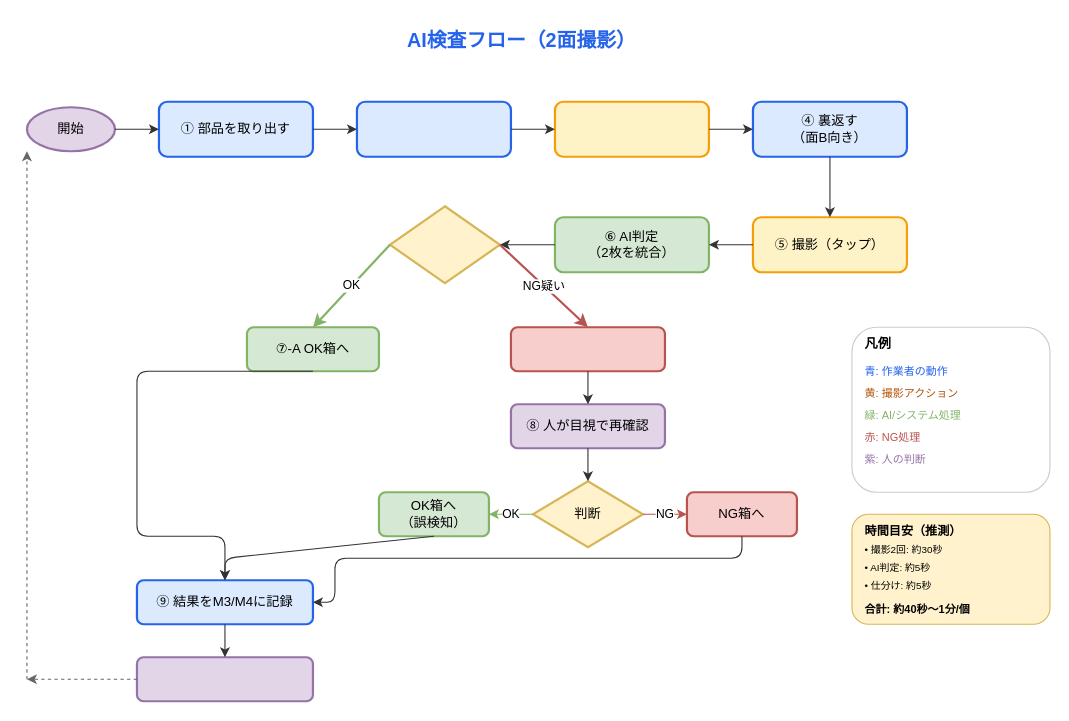
This 1069x721 diagram has some shape labels left out. Each missing label, with the box of its shape:
② 治具にセット （面A向き）: (355, 100, 512, 157)
③ 撮影（タップ）: (553, 100, 710, 157)
⑦-B 画面に理由表示: (509, 326, 666, 372)
⑩ 次の部品へ: (135, 656, 314, 702)
判定結果: (388, 205, 501, 284)
